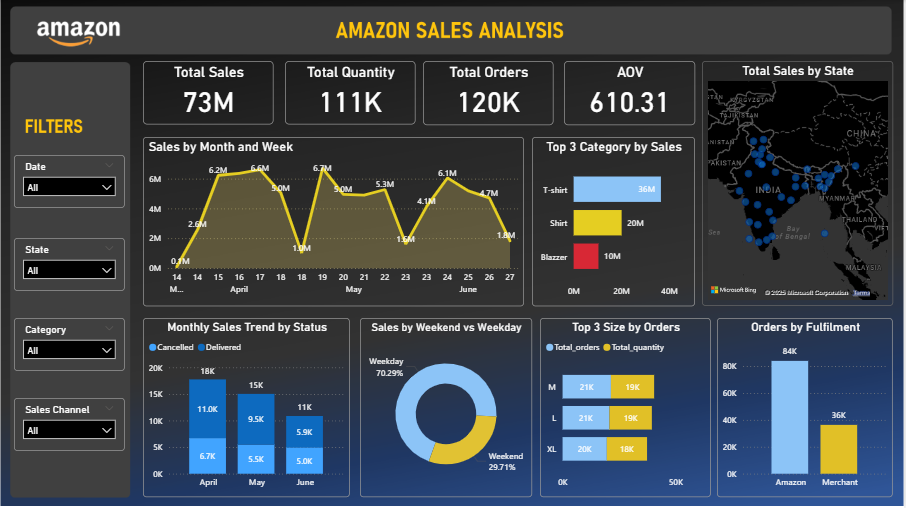

The page's visual inventory and layout, read from the dashboard file:
{"tool":"powerbi","page":{"name":"Page 1","canvas":[1280,720],"ordinal":0},"visuals":[{"type":"card","title":"Total Sales","fields":{"Values":["cleaned_dataset.Total_sales"]},"box":[202.7,86.5,185,90],"z":0},{"type":"card","title":"Total Quantity","fields":{"Values":["cleaned_dataset.Total_quantity"]},"box":[403.9,86.5,185,90],"z":1000},{"type":"card","title":"Total Orders","fields":{"Values":["cleaned_dataset.Total_orders"]},"box":[599.5,86.5,185,90.7],"z":2000},{"type":"card","title":"AOV","fields":{"Values":["cleaned_dataset.aov"]},"box":[799.4,86.5,185.7,90.7],"z":3000},{"type":"map","title":"Total Sales by State","fields":{"Category":["cleaned_dataset.ship_state"],"X":["cleaned_dataset.Total_sales"]},"box":[995,86.5,270.7,347.2],"z":4000},{"type":"lineChart","title":"Sales by Month and Week","fields":{"Y":["Sum(cleaned_dataset.amount)"],"Category":["cleaned_dataset.date.Variation.Date Hierarchy.Month","cleaned_dataset.Week Number"]},"box":[202.7,194.2,540,240],"z":5000},{"type":"barChart","title":"Top 3 Category by Sales","fields":{"Category":["cleaned_dataset.category"],"Y":["cleaned_dataset.Total_sales"]},"box":[754,194.2,231,240],"z":6000},{"type":"clusteredColumnChart","title":"Orders by Fulfilment","fields":{"Category":["cleaned_dataset.fulfilment"],"Y":["cleaned_dataset.Total_orders"]},"box":[1016.2,450.7,249.4,253.7],"z":7000},{"type":"slicer","fields":{"Values":["cleaned_dataset.ship_state"]},"box":[19.8,337.3,157.3,75.1],"z":8000},{"type":"slicer","fields":{"Values":["cleaned_dataset.category"]},"box":[19.8,450.7,157.3,75.1],"z":9000},{"type":"barChart","title":"Top 3 Size by Orders","fields":{"Category":["cleaned_dataset.size"],"Y":["cleaned_dataset.Total_orders","cleaned_dataset.Total_quantity"]},"box":[765.4,450.7,242.4,253.7],"z":10000},{"type":"donutChart","title":"Sales by Weekend vs Weekday","fields":{"Category":["cleaned_dataset.weekend_weekday"],"Y":["cleaned_dataset.Total_sales"]},"box":[510.2,450.7,243.8,253.7],"z":11000},{"type":"slicer","fields":{"Values":["cleaned_dataset.sales_channel"]},"box":[19.8,564.1,157.3,75.1],"z":12000},{"type":"columnChart","title":"Monthly Sales Trend by Status","fields":{"Series":["cleaned_dataset.status"],"Y":["cleaned_dataset.Total_orders"],"Category":["cleaned_dataset.Month Name"]},"box":[202.7,450.7,293.4,253.7],"z":13000},{"type":"slicer","fields":{"Values":["cleaned_dataset.Month Name","cleaned_dataset.day_name"]},"box":[19.8,219.7,157.3,75.1],"z":14000}]}

Visuals, with their boxes in screenshot pixels (x1, y1, x2, y2), scaled from the page's 1280x720 canvas onto the 906x508 screenshot:
"Total Sales" card: Rect(143, 61, 274, 125)
"Total Quantity" card: Rect(286, 61, 417, 125)
"Total Orders" card: Rect(424, 61, 555, 125)
"AOV" card: Rect(566, 61, 697, 125)
"Total Sales by State" map: Rect(704, 61, 896, 306)
"Sales by Month and Week" lineChart: Rect(143, 137, 526, 306)
"Top 3 Category by Sales" barChart: Rect(534, 137, 697, 306)
"Orders by Fulfilment" clusteredColumnChart: Rect(719, 318, 896, 497)
slicer - cleaned_dataset.ship_state: Rect(14, 238, 125, 291)
slicer - cleaned_dataset.category: Rect(14, 318, 125, 371)
"Top 3 Size by Orders" barChart: Rect(542, 318, 713, 497)
"Sales by Weekend vs Weekday" donutChart: Rect(361, 318, 534, 497)
slicer - cleaned_dataset.sales_channel: Rect(14, 398, 125, 451)
"Monthly Sales Trend by Status" columnChart: Rect(143, 318, 351, 497)
slicer - cleaned_dataset.Month Name x cleaned_dataset.day_name: Rect(14, 155, 125, 208)
